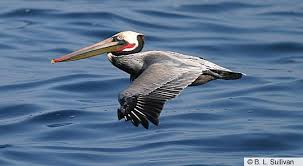pelican: (51, 31, 246, 128)
